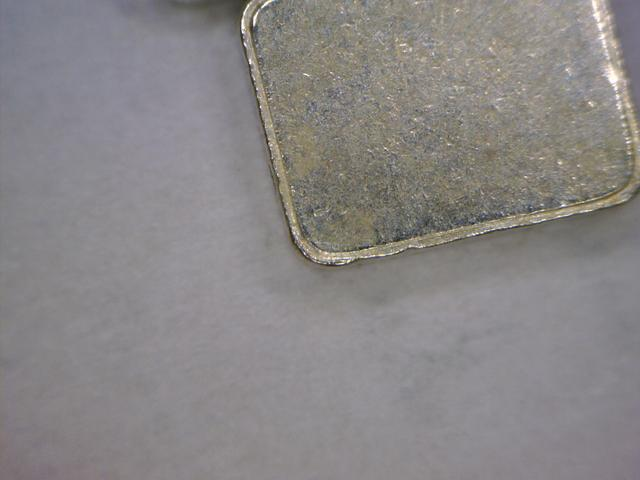nok: (231, 1, 639, 278)
